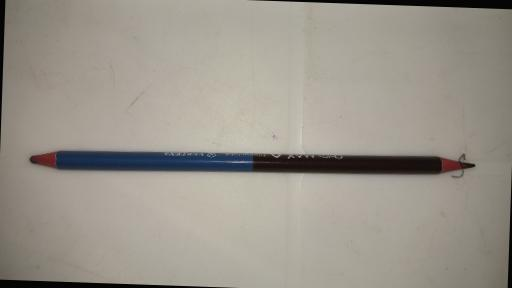Pencil: (26, 140, 476, 185)
